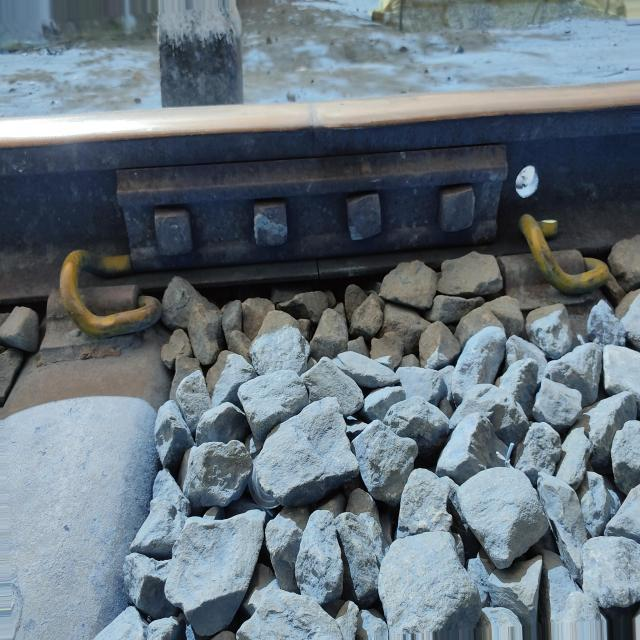Good Fasteners: (34, 250, 161, 367), (498, 214, 615, 311)
Good Joint: (117, 145, 507, 270)
